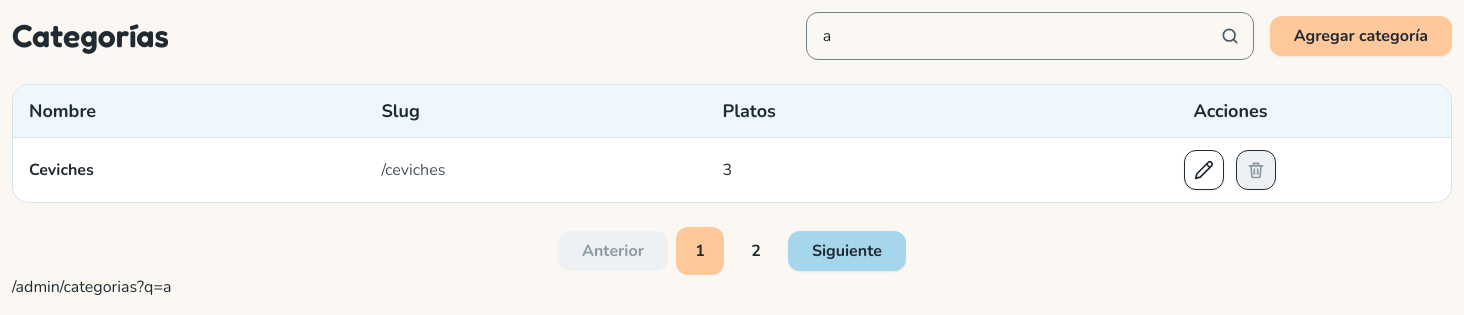
Test: AdminCategoriesPage › al pasar de página conserva la búsqueda
The image size is (1464, 315).
Check: the column heading "Ceviches" is shown, box [13,138,365,202]
Click the button "Siguiente".
click(847, 251)  # box [788,231,906,271]
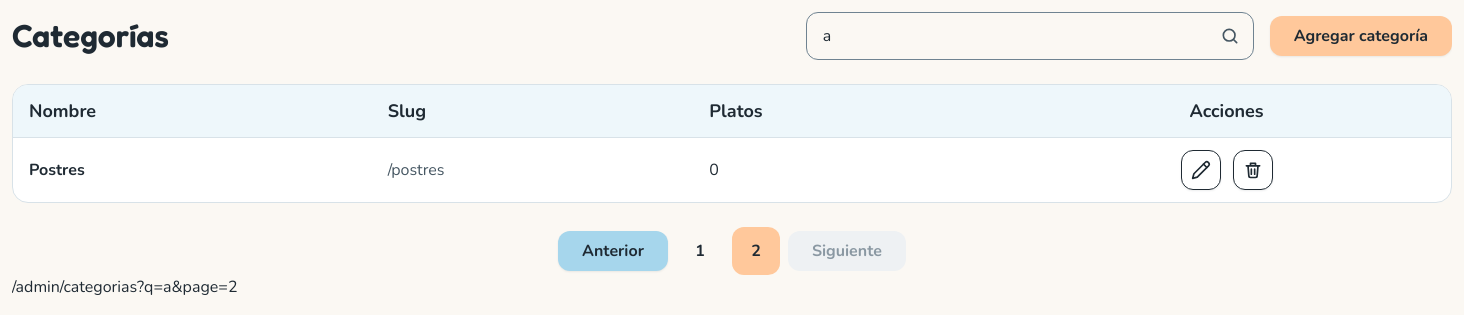
Check: the text with test id "location" reads "/admin/categorias?q=a&page=2", box [12,276,238,298]
